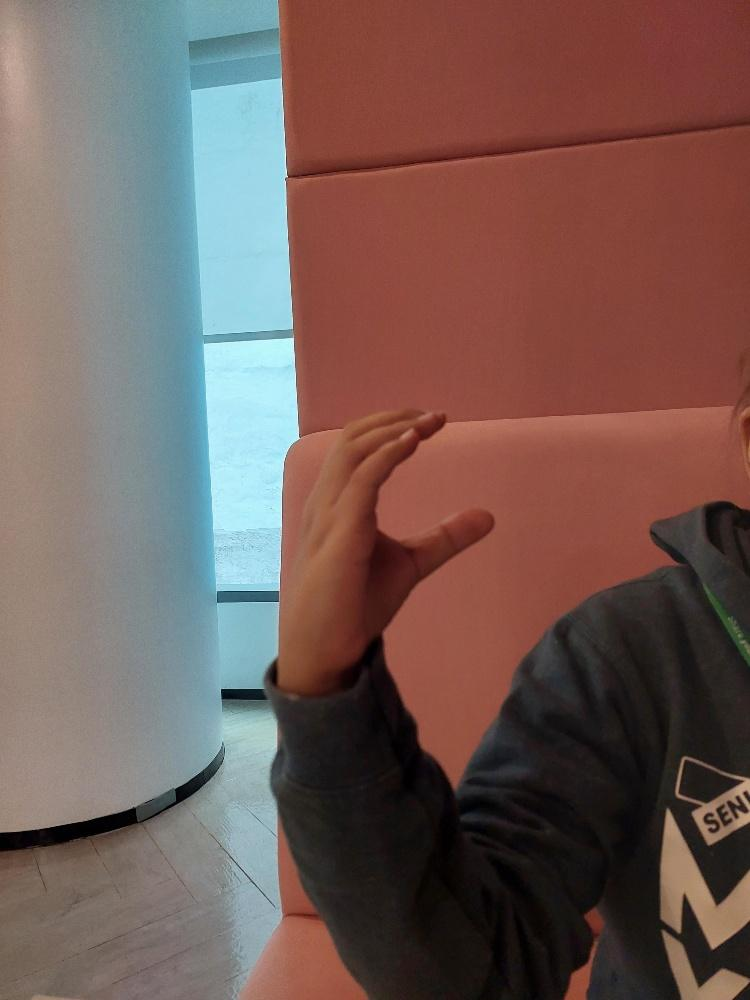c: (272, 395, 504, 682)
